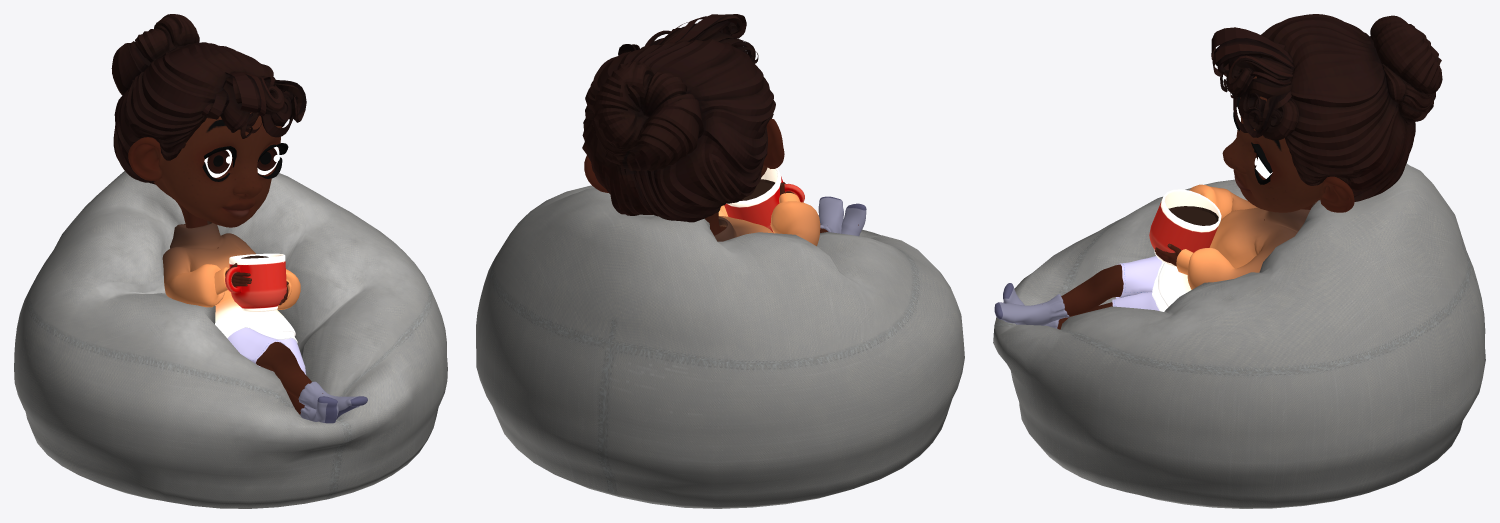
Rendered from a_little_coffee_in_the_evening (1).glb.
3 views of the same model, side by side, from view 1: azimuth 30°, elevation 25°; view 2: azimuth 150°, elevation 25°; view 3: azimuth 270°, elevation 25° (orthographic). The views are drawn at different scales.
Visible parts, largest first — view 1: Object_5, Object_3, Object_8, Object_12, Object_4, Object_11, Object_14; view 2: Object_5, Object_3, Object_12, Object_4, Object_8; view 3: Object_5, Object_3, Object_12, Object_8, Object_4, Object_16.
Boxes of the visible parts, x1,y1,x2,y2 form: Object_5: (14,171,447,508); Object_3: (111,14,306,184); Object_8: (128,112,322,414); Object_12: (162,220,367,423); Object_4: (225,253,286,311); Object_11: (202,143,288,181); Object_14: (207,148,277,173); Object_5: (476,185,964,508); Object_3: (582,14,775,222); Object_12: (714,193,866,246); Object_4: (724,167,804,232); Object_8: (584,118,858,235); Object_5: (993,163,1485,508); Object_3: (1211,14,1442,201); Object_12: (994,184,1317,328); Object_8: (1057,76,1354,329); Object_4: (1149,189,1221,267); Object_16: (1168,206,1218,225).
Size of the model in its own units: 118 by 110 by 121.
14 materials, 5 textured.
